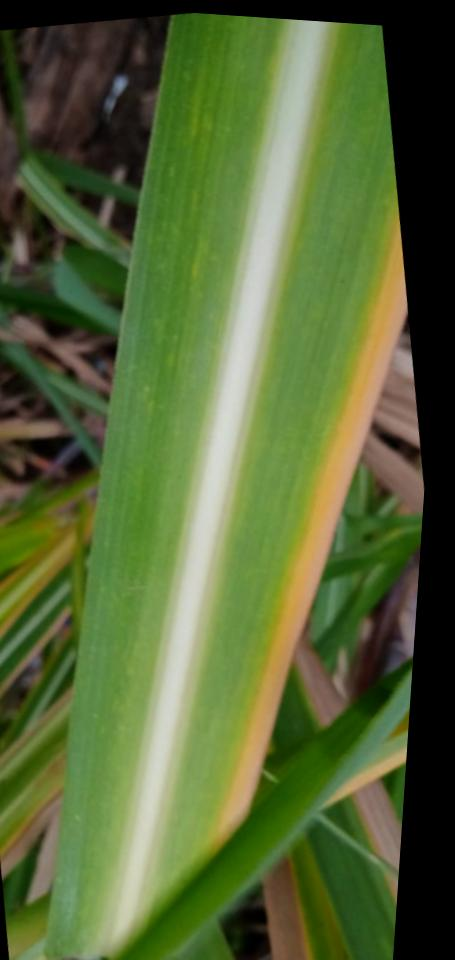Yellow: (213, 223, 407, 855), (324, 749, 407, 807)
